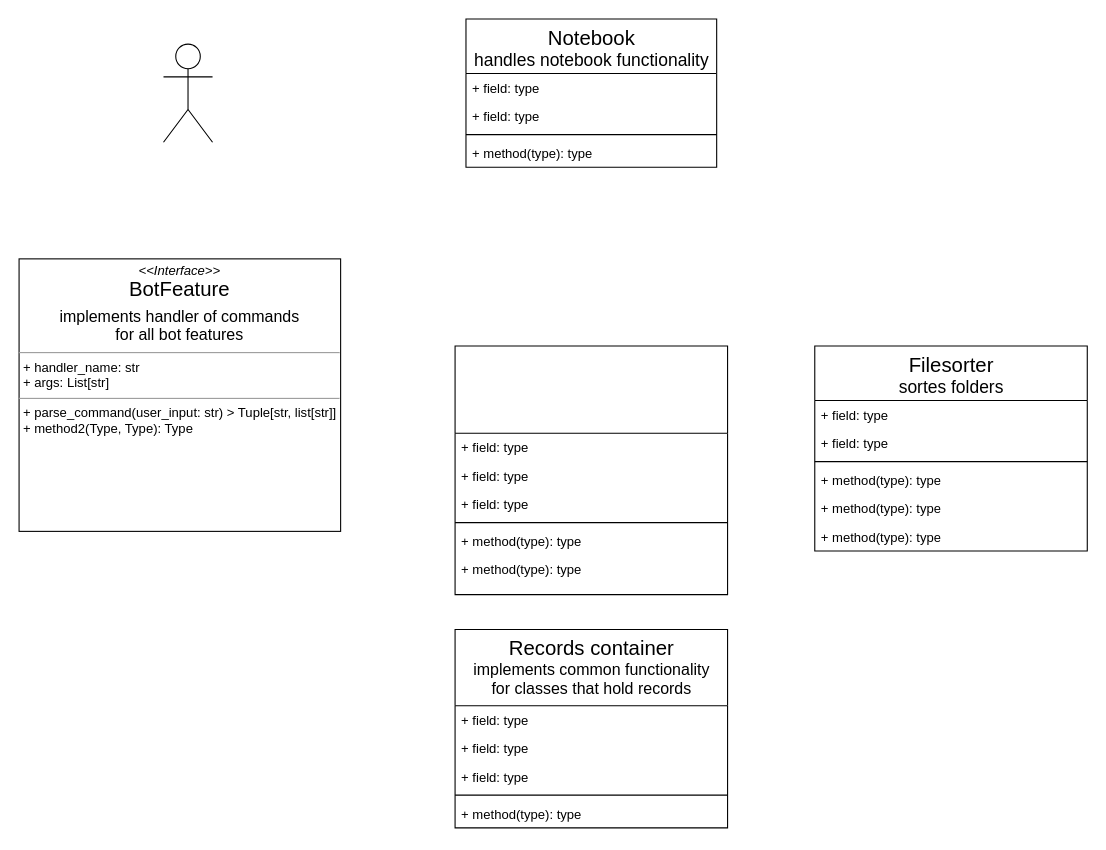
This 1106x850 diagram has some shape labels left out. The shapes that lost their labels are listed below. From the top down, each one's box as (x1, y1, x2, y2) in pixels, then its label:
(162, 43, 213, 142): Actor
(454, 345, 728, 595): Addressbook handles addressbook functionality
